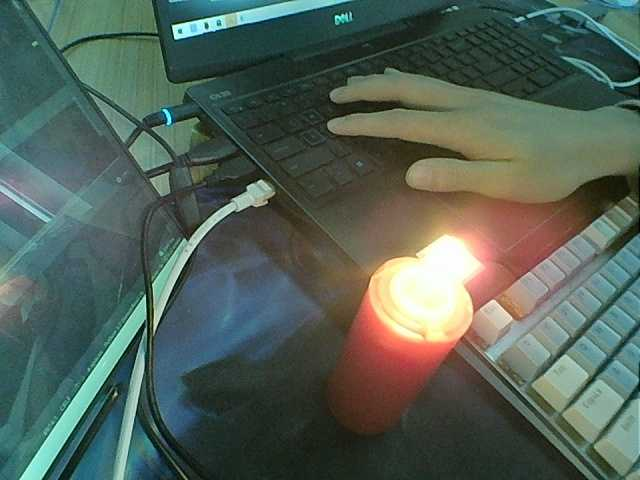candle: (343, 305, 438, 437)
fire: (395, 241, 475, 321)
